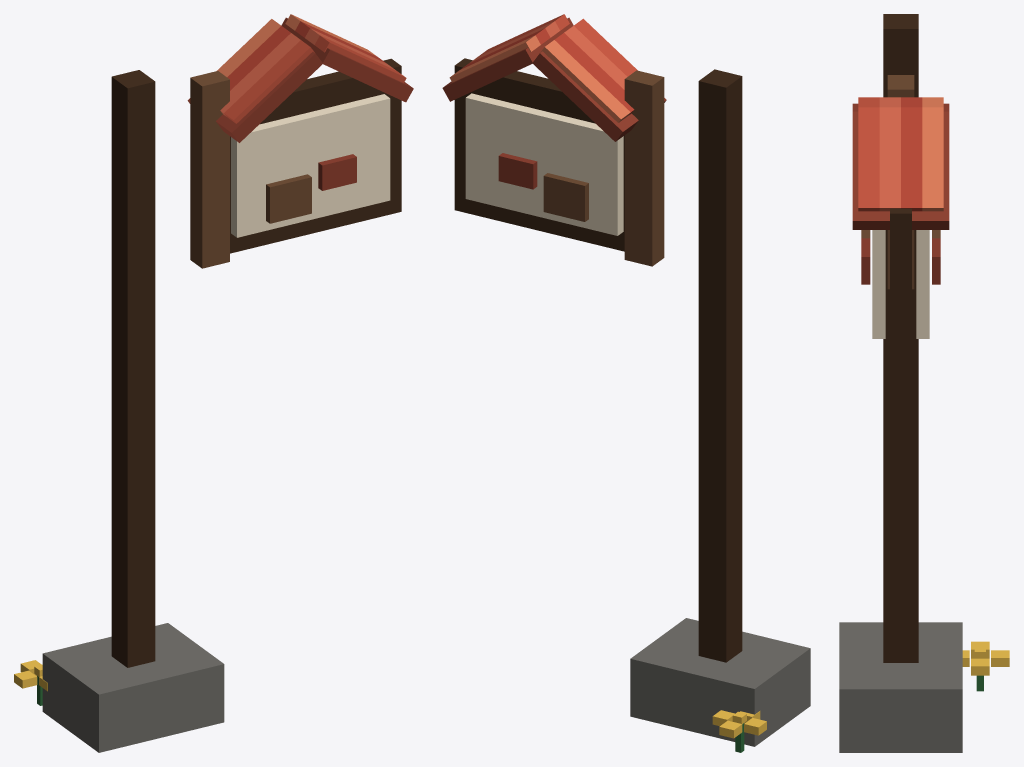
Rendered from vn_deco_village_sign.glb.
3 renders of one model, left to right at view 1: azimuth 30°, elevation 25°; view 2: azimuth 150°, elevation 25°; view 3: azimuth 270°, elevation 25°, orthographic. The views are drawn at different scales.
Parts seen in each view (by area): view 1: sign_wood; view 2: sign_wood; view 3: sign_wood.
Boxes of the visible parts, x1=… form: sign_wood: x1=14, y1=14, x2=413, y2=752; sign_wood: x1=442, y1=14, x2=810, y2=752; sign_wood: x1=839, y1=14, x2=1009, y2=752.
Bounding box in the file's own units: 0.9816 × 1.77 × 0.3866.
